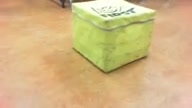cube: (70, 1, 155, 73)
